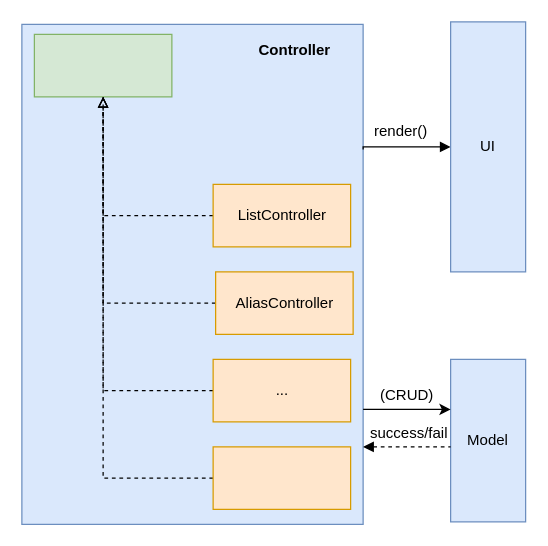
This 548x546 diagram has some shape labels left out. The shapes that lost their labels are listed below. From the top down, each one's centre as x and y in pixels, then its label:
At point 102,65: "{abstract} Controller".
At point 281,477: "HelpController".
